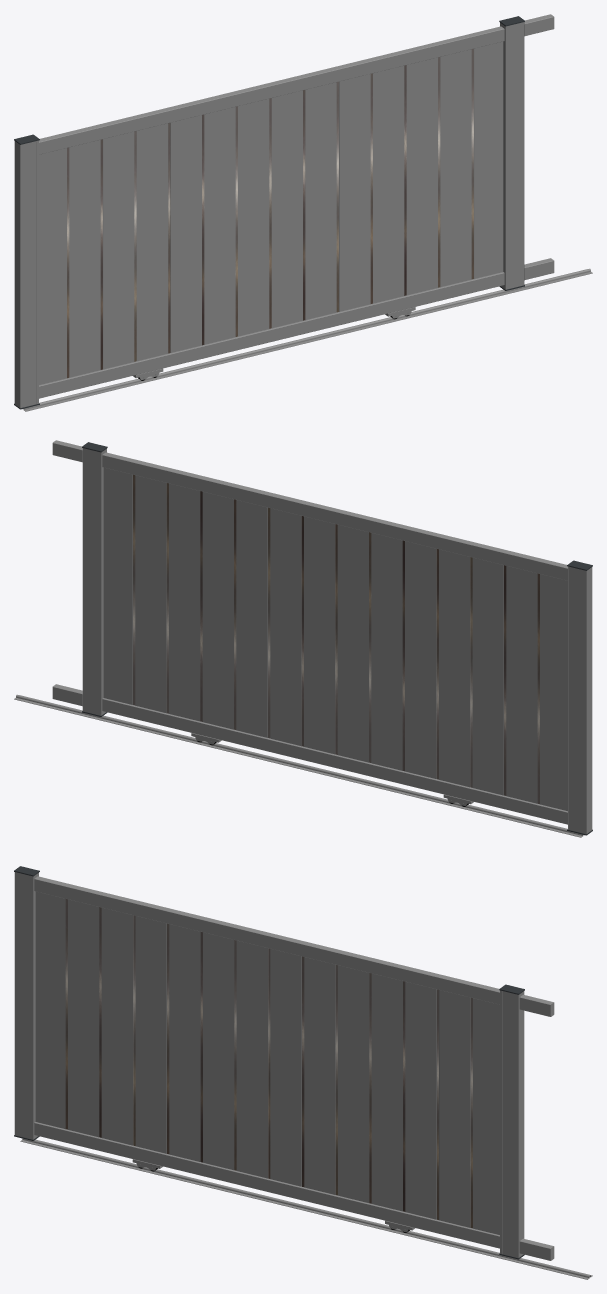
3 views of the same model, one above another, from view 1: azimuth 30°, elevation 25°; view 2: azimuth 150°, elevation 25°; view 3: azimuth 330°, elevation 25° (orthographic).
Parts seen in each view (by area): view 1: Shape107412039, Shape180, Shape107413031, Shape188, Shape107413029, Shape184, Shape192, Shape170, Shape107413025, Shape107413027, Shape176, Shape107413033 (+20 smaller); view 2: Shape107412039, Shape188, Shape170, Shape107413031, Shape192, Shape107413025, Shape107413029, Shape107413033, Shape184, Shape107413023, Shape107413027, Shape176 (+20 smaller); view 3: Shape107412039, Shape176, Shape192, Shape184, Shape107413025, Shape107413027, Shape107413029, Shape180, Shape188, Shape107413023, Shape107413031, Shape170 (+19 smaller).
Boxes of the visible parts, x1,y1,x2,y2 form: Shape107412039: [39, 14, 554, 154]; Shape180: [136, 123, 168, 361]; Shape107413031: [406, 57, 437, 295]; Shape188: [204, 107, 235, 344]; Shape107413029: [373, 66, 404, 303]; Shape184: [170, 115, 201, 352]; Shape192: [238, 98, 269, 336]; Shape170: [69, 140, 100, 377]; Shape107413025: [305, 82, 336, 320]; Shape107413027: [339, 74, 370, 311]; Shape176: [103, 131, 134, 369]; Shape107413033: [440, 49, 471, 287]; Shape107412039: [52, 440, 567, 580]; Shape188: [371, 533, 402, 770]; Shape170: [506, 566, 537, 803]; Shape107413031: [169, 483, 200, 721]; Shape192: [337, 525, 368, 762]; Shape107413025: [270, 508, 301, 746]; Shape107413029: [202, 492, 233, 729]; Shape107413033: [135, 475, 166, 713]; Shape184: [405, 541, 436, 778]; Shape107413023: [304, 516, 335, 754]; Shape107413027: [236, 500, 267, 737]; Shape176: [472, 557, 503, 795]; Shape107412039: [34, 876, 554, 1016]; Shape176: [101, 907, 133, 1145]; Shape192: [236, 940, 268, 1178]; Shape184: [169, 924, 200, 1161]; Shape107413025: [304, 957, 335, 1194]; Shape107413027: [338, 965, 369, 1202]; Shape107413029: [371, 973, 402, 1211]; Shape180: [135, 916, 166, 1153]; Shape188: [203, 932, 234, 1170]; Shape107413023: [270, 949, 301, 1186]; Shape107413031: [405, 981, 436, 1219]; Shape170: [68, 899, 99, 1137].
Bounding box in the file's own units: 3638 × 1636 × 70.
7 materials, 3 textured.
